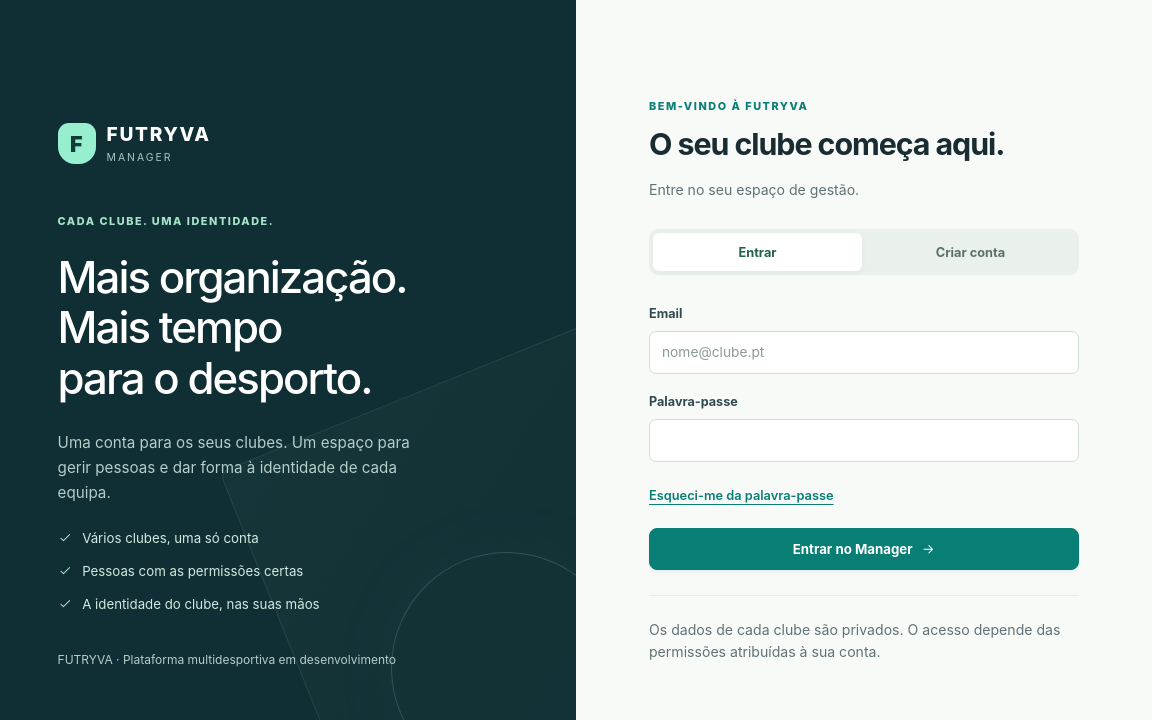
acesso à conta › mostra confirmação genérica para recuperação e permite introduzir o código recebido
Click the button "Esqueci-me da palavra-passe" at (741, 495), box [649,481,834,509]
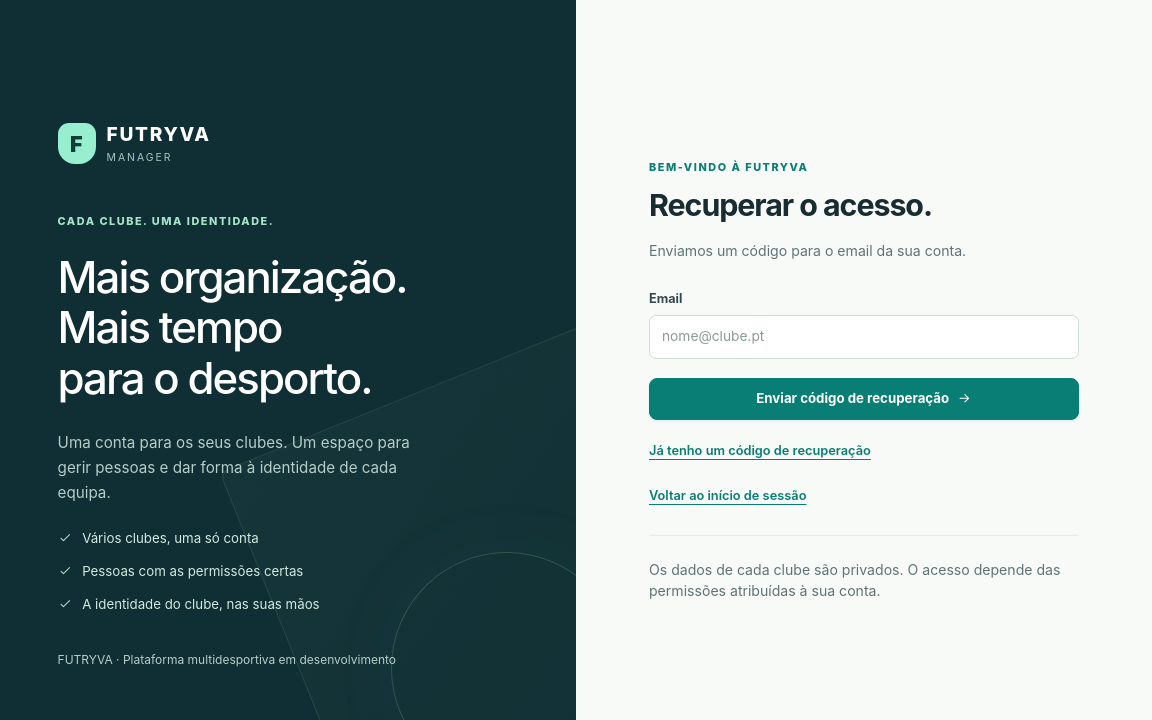
Type "unknown@example.invalid" into the field labelled "Email" at (864, 337), box [649,315,1079,359]
Click the button "Enviar código de recuperação" at (864, 399), box [649,378,1079,420]
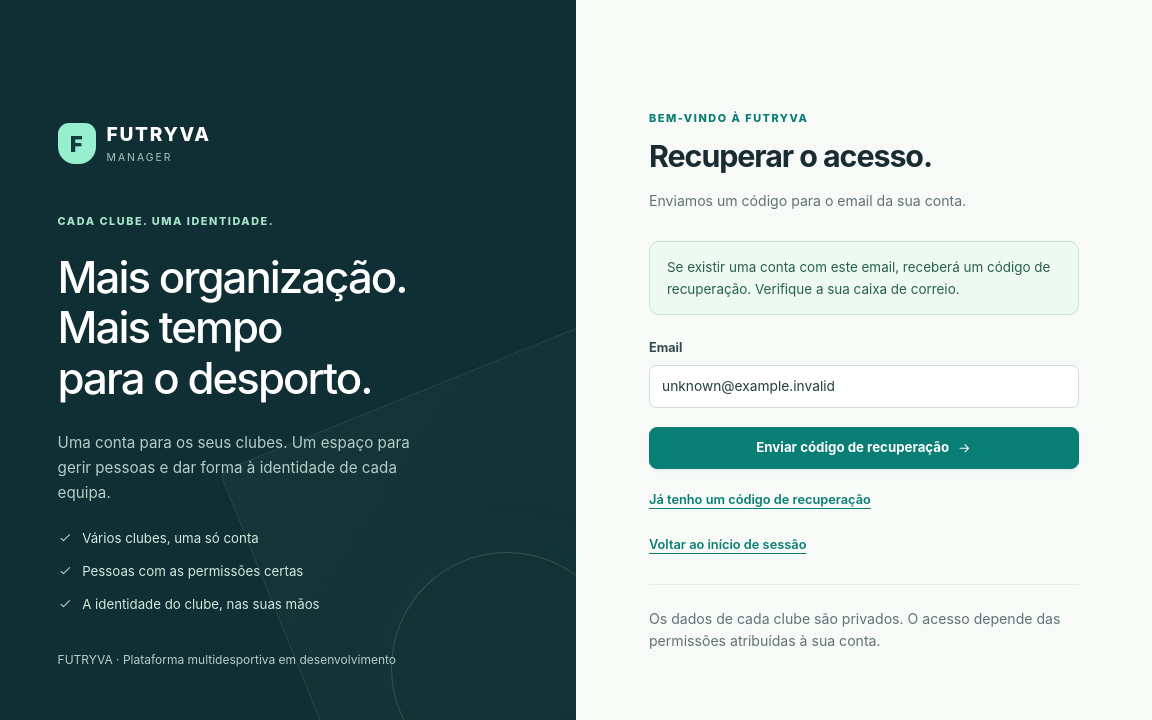
Result: the text "Se existir uma conta com este email" is shown at [667,259,1050,297]
Click the button "Já tenho um código de recuperação" at (760, 500), box [649,486,871,514]
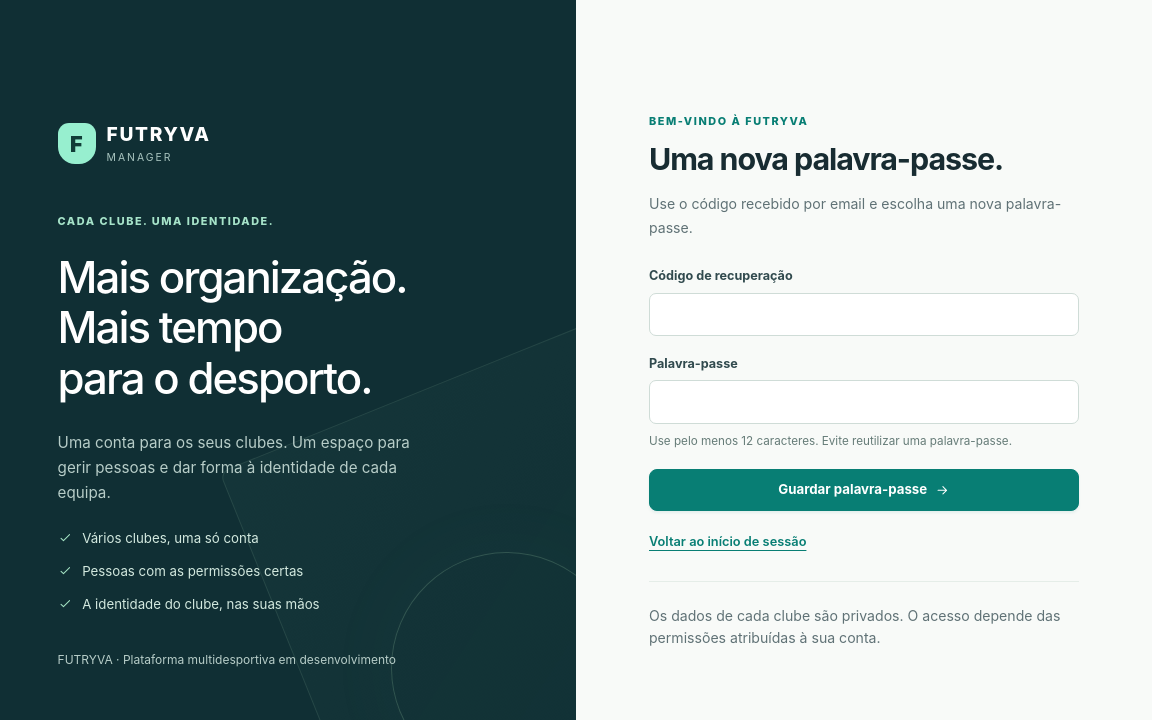
Type "synthetic-one-use-code" into the field labelled "Código de recuperação" at (864, 314), box [649,292,1079,336]
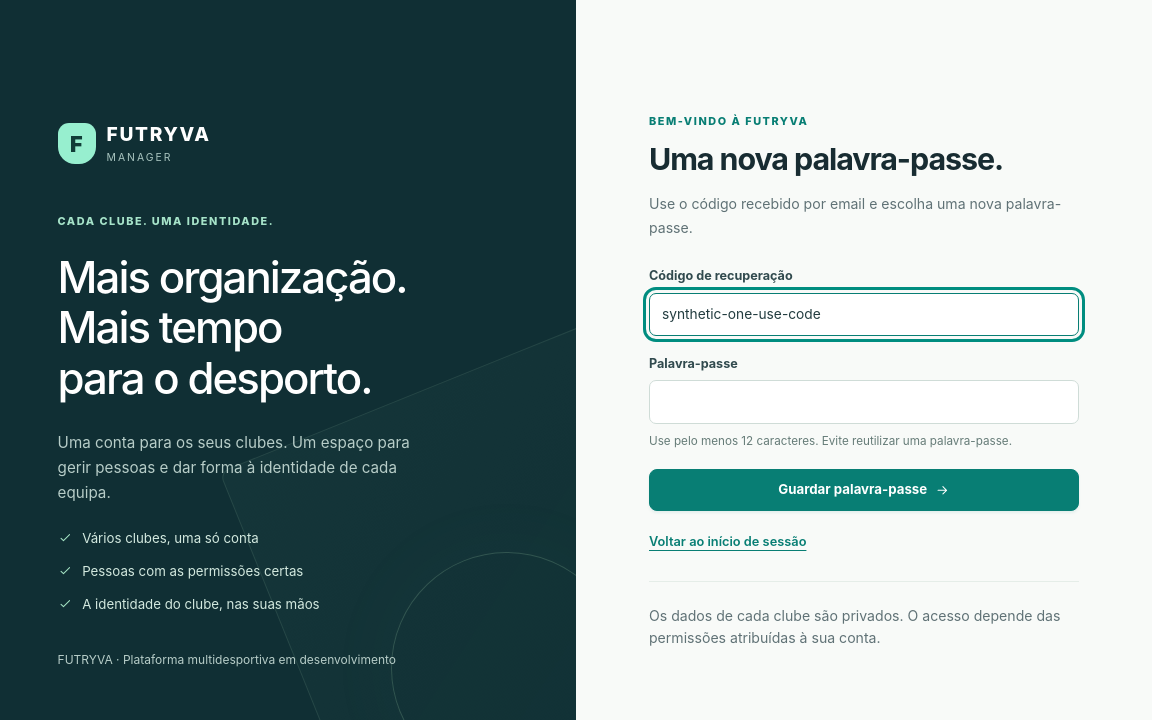
Type "Uma nova frase sintética" into the password field labelled "Palavra-passe" at (864, 402), box [649,380,1079,424]
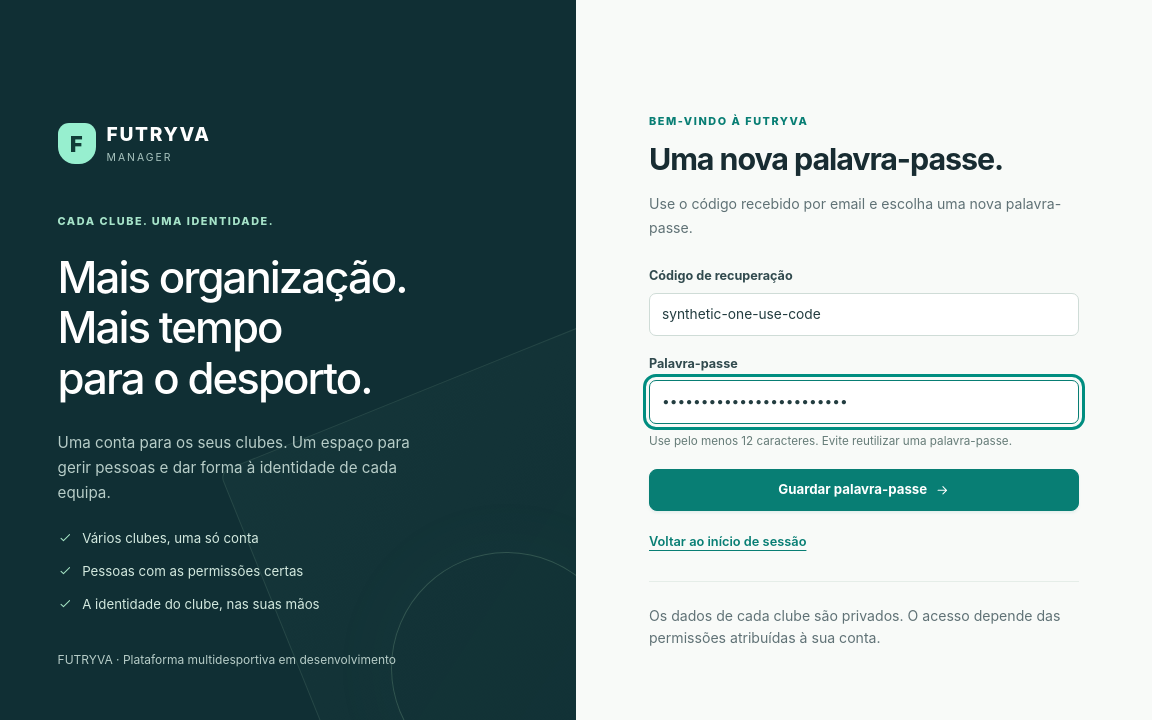
Click the button "Guardar palavra-passe" at (864, 490), box [649,469,1079,511]
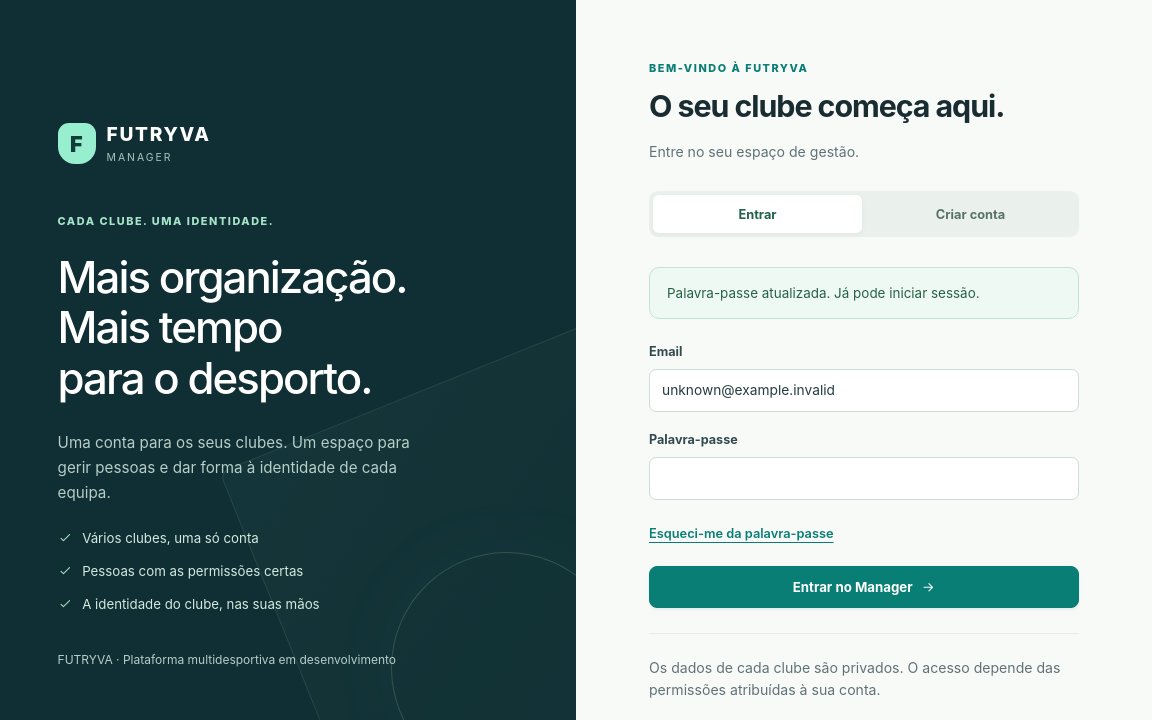
Result: the text "Palavra-passe atualizada. Já pode iniciar sessão." is shown at [649,267,1079,319]
Result: the button "Entrar no Manager" is shown at [649,566,1079,608]
